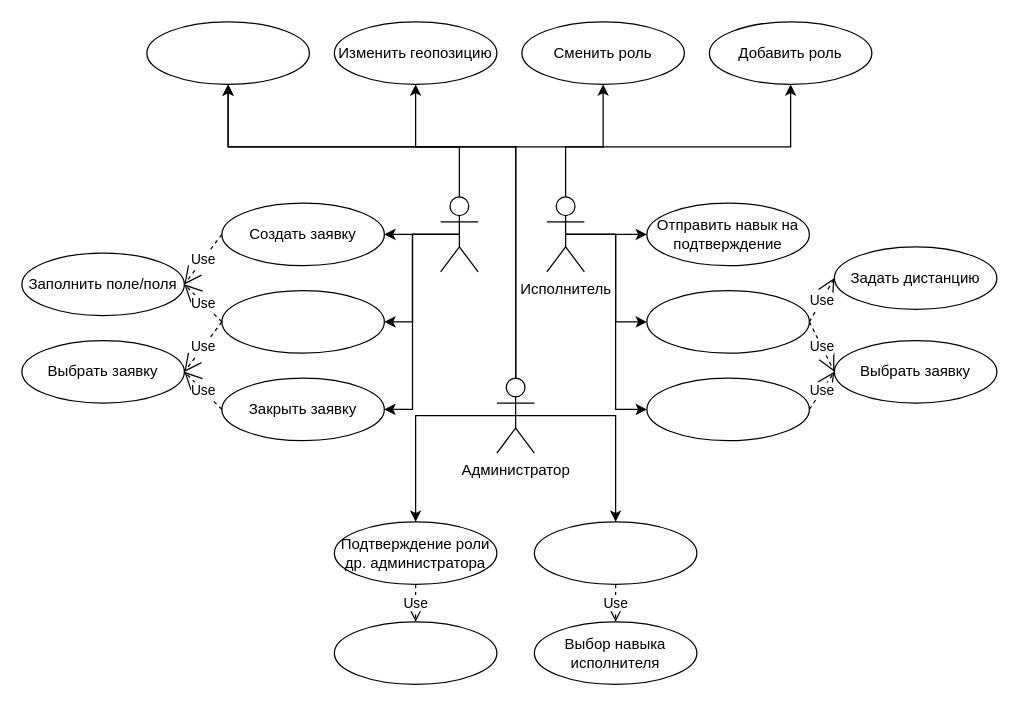
The diagram is 1019 pixels wide and 706 high, and some of its shapes have lost their labels. Here are the shapes that lost their labels. From the top down, the centre of each, then its label:
(227,52): Персонализироваться
(458,234): Оформитель
(302,321): Редактировать заявку
(727,321): Взять заявку на исполнение
(727,409): Выполнить заявку
(615,552): Подтверждение проф. навыка исполнителя
(415,652): Выбрать пользователя
